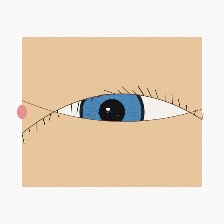pinguecula_lesion: (25, 96, 60, 124)
